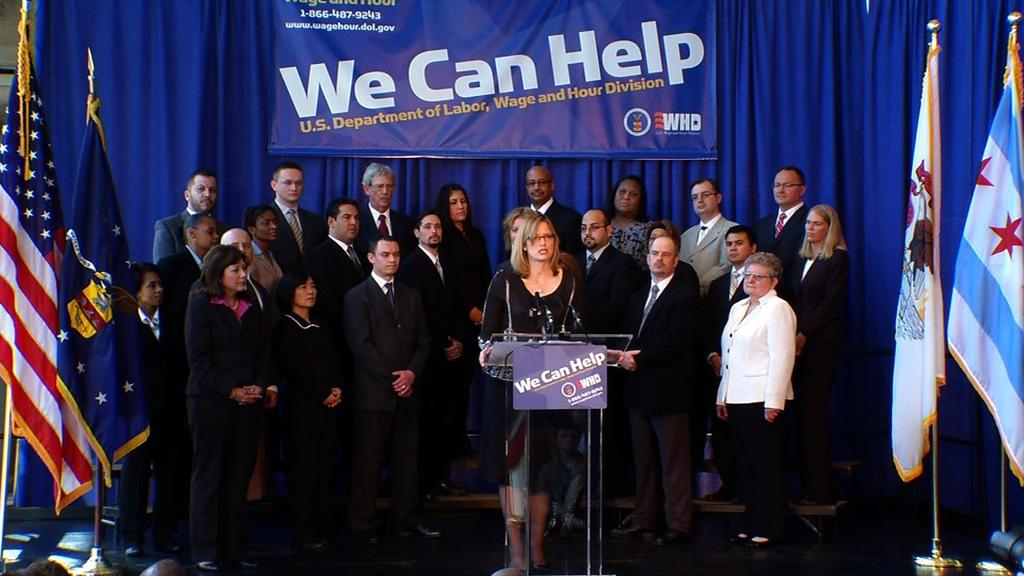face: (526, 220, 554, 260), (579, 209, 605, 248), (190, 175, 216, 211), (225, 231, 251, 266), (373, 238, 399, 273), (773, 170, 800, 203), (742, 263, 770, 294), (221, 258, 247, 291), (650, 238, 673, 275), (334, 203, 359, 237), (691, 180, 716, 213), (614, 179, 639, 212), (277, 168, 302, 200), (369, 174, 393, 207), (140, 271, 163, 305), (525, 170, 550, 200), (725, 232, 750, 261), (293, 277, 317, 307), (509, 217, 535, 244), (419, 214, 442, 244), (197, 217, 219, 248), (804, 212, 828, 240), (256, 211, 278, 240), (448, 189, 467, 220), (648, 228, 669, 256)
